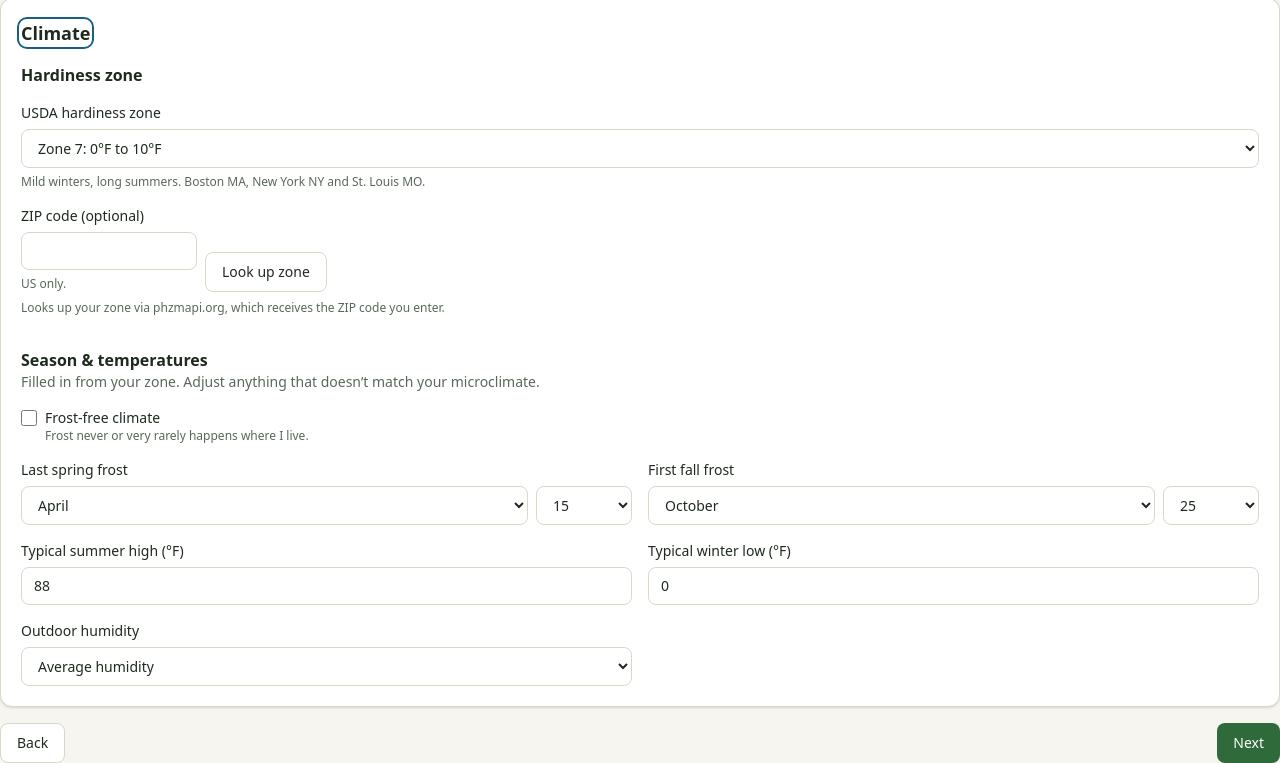
Test: SetupWizard (new garden) › lets users jump back from the review step to fix something
Earlier steps of the test are not shown.
(page scrolled)
Click the button "Next": point(1249, 743) [1217,723,1279,762]
(page scrolled)
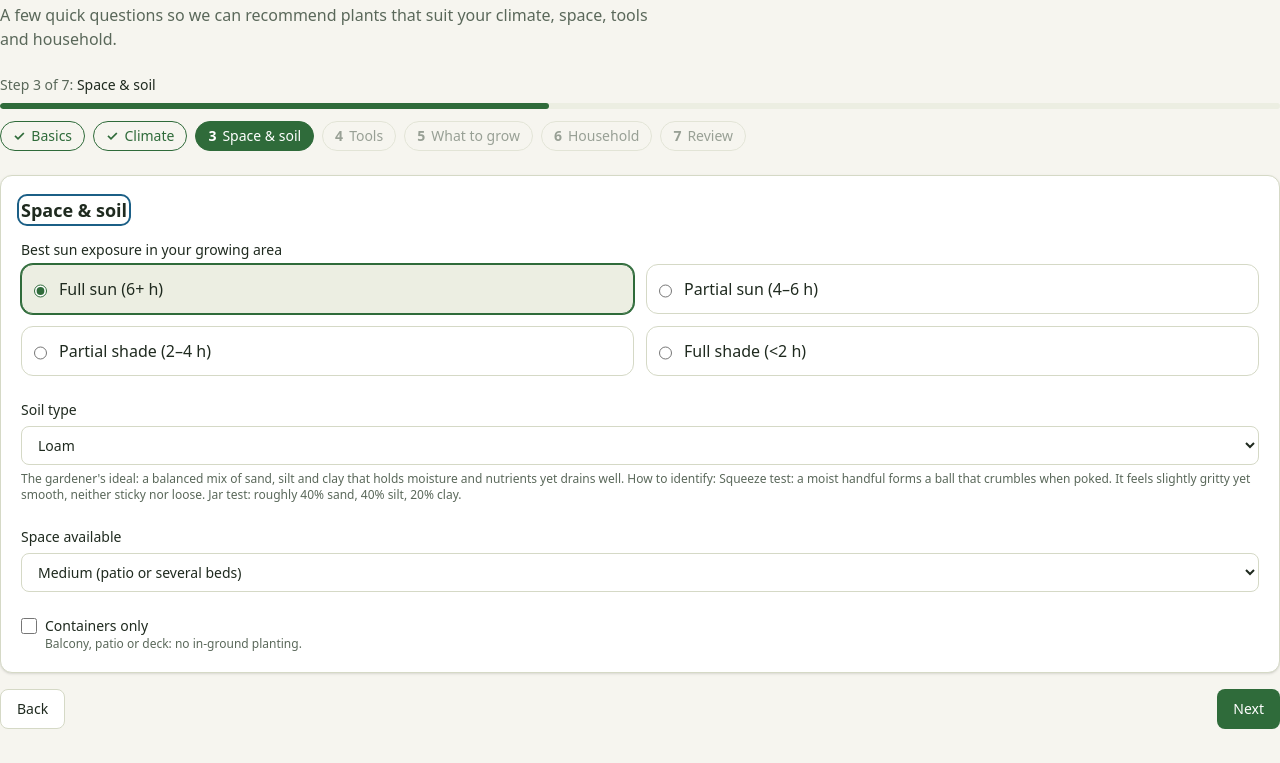
Click the button "Next": point(1249, 709) [1217,689,1279,729]
(page scrolled)
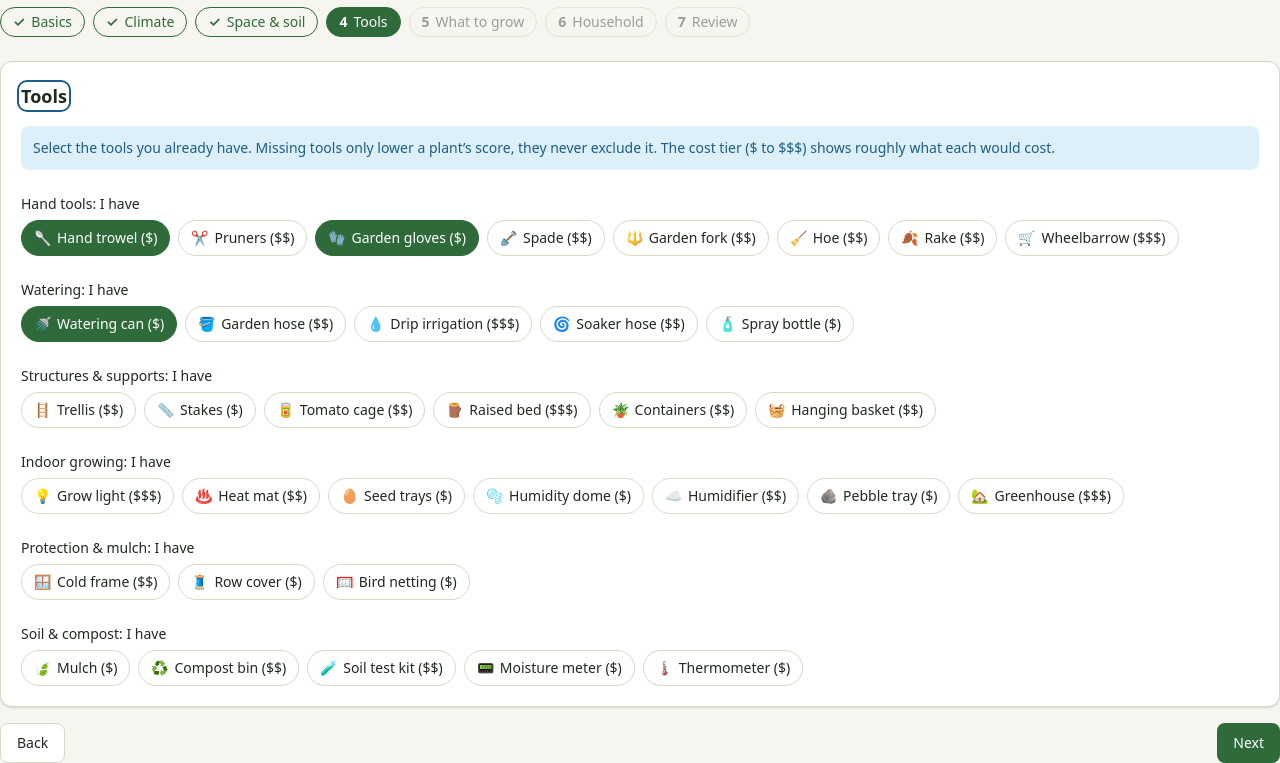
Click the button "Next": point(1249, 743) [1217,723,1279,762]
(page scrolled)
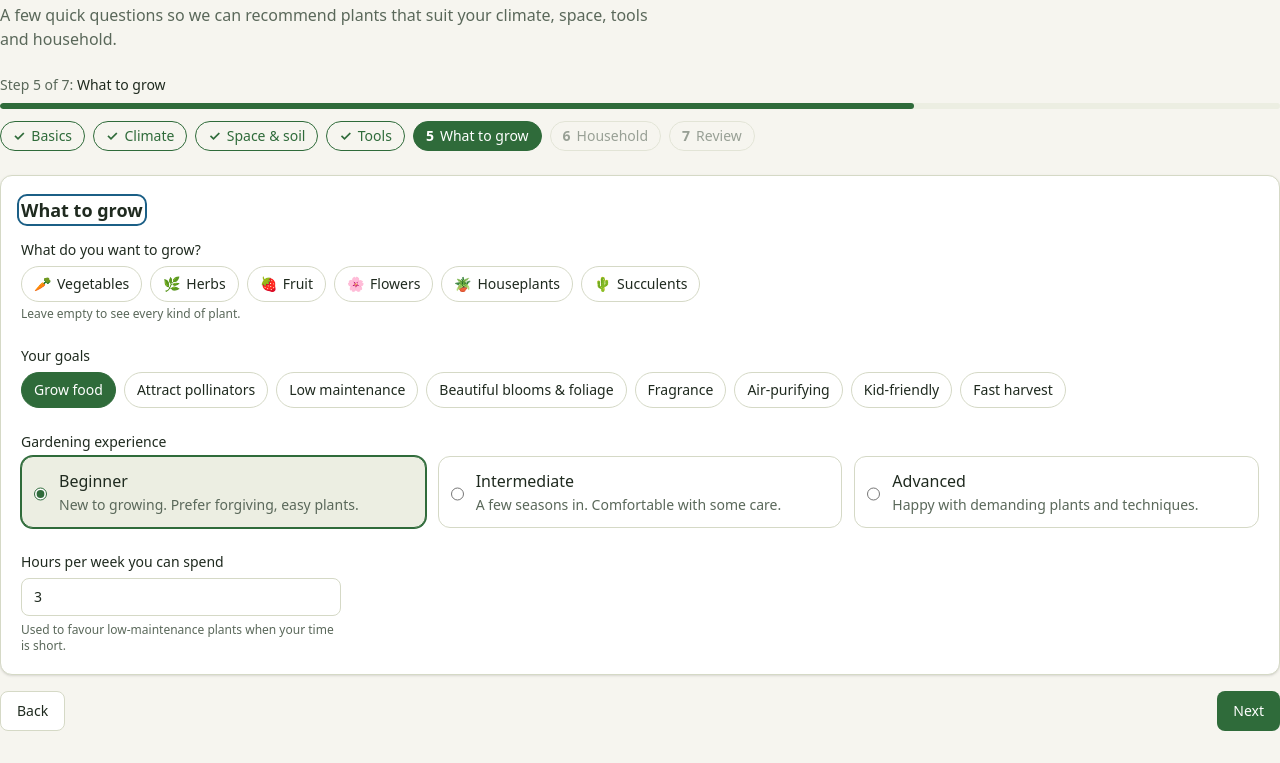
Click the button "Next": point(1249, 711) [1217,691,1279,731]
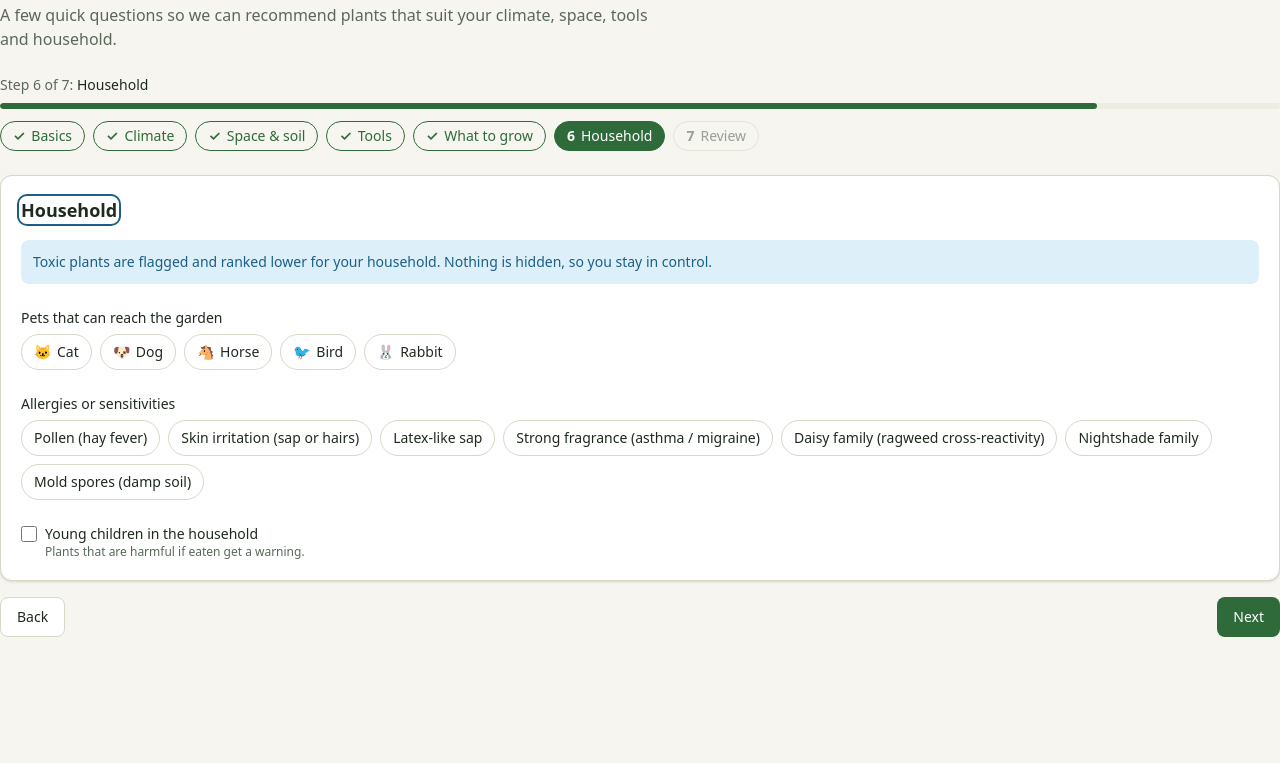
Click the button "Next": point(1249, 617) [1217,597,1279,637]
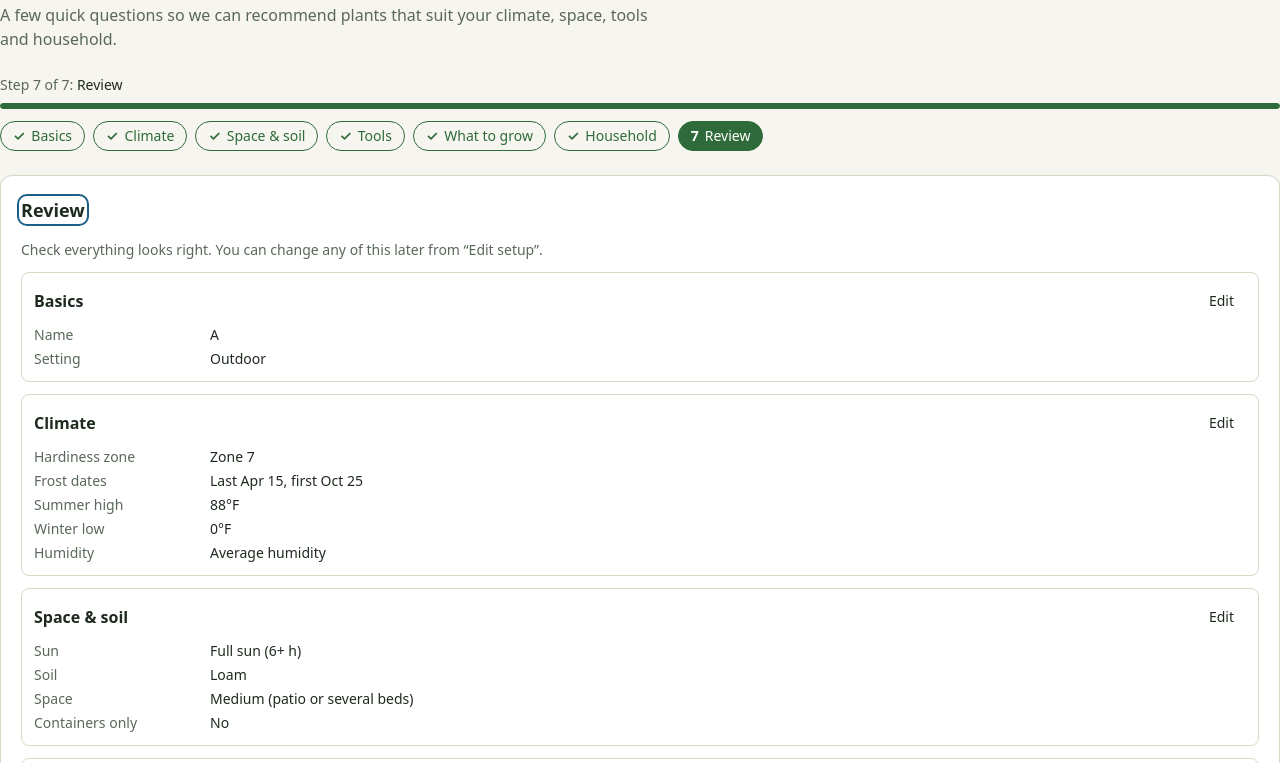
Click the button with aria-label "Edit Basics": point(1221, 301) [1197,285,1246,317]
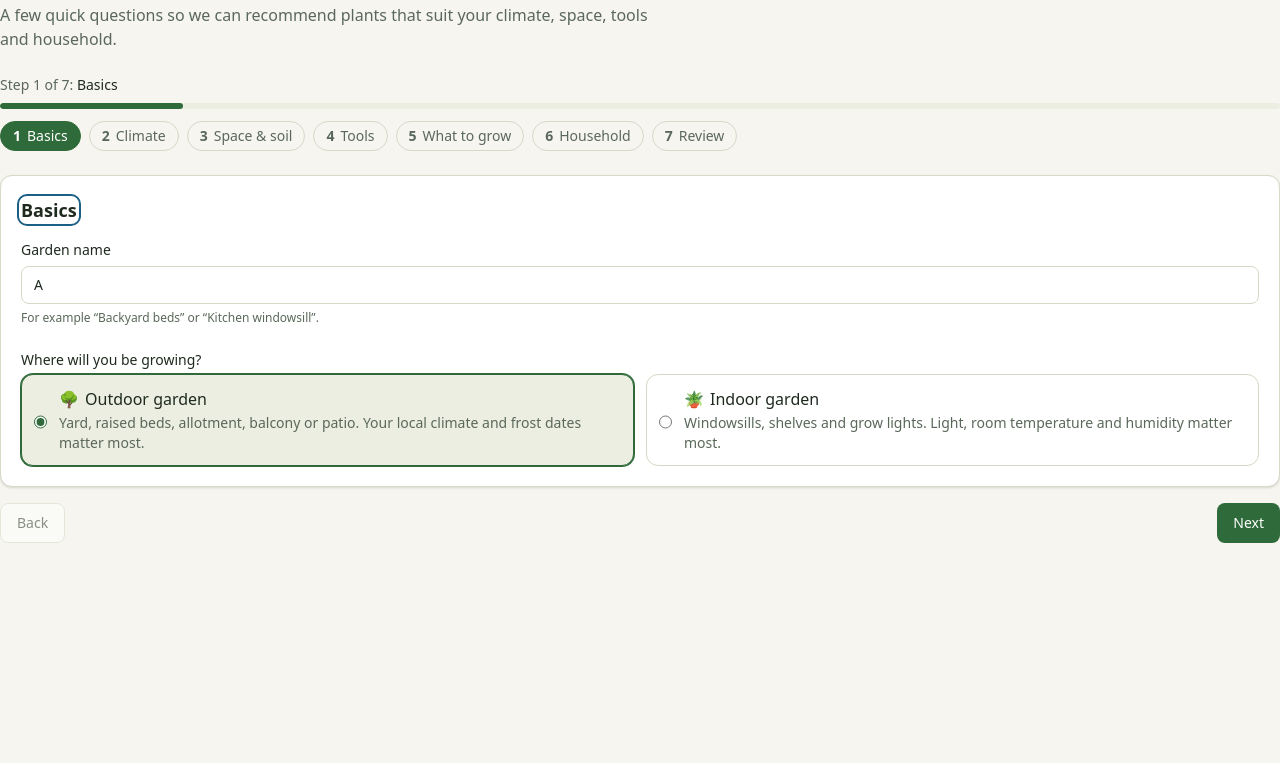
expect the field labelled "Garden name" holds "A": met, box [21,266,1259,304]
